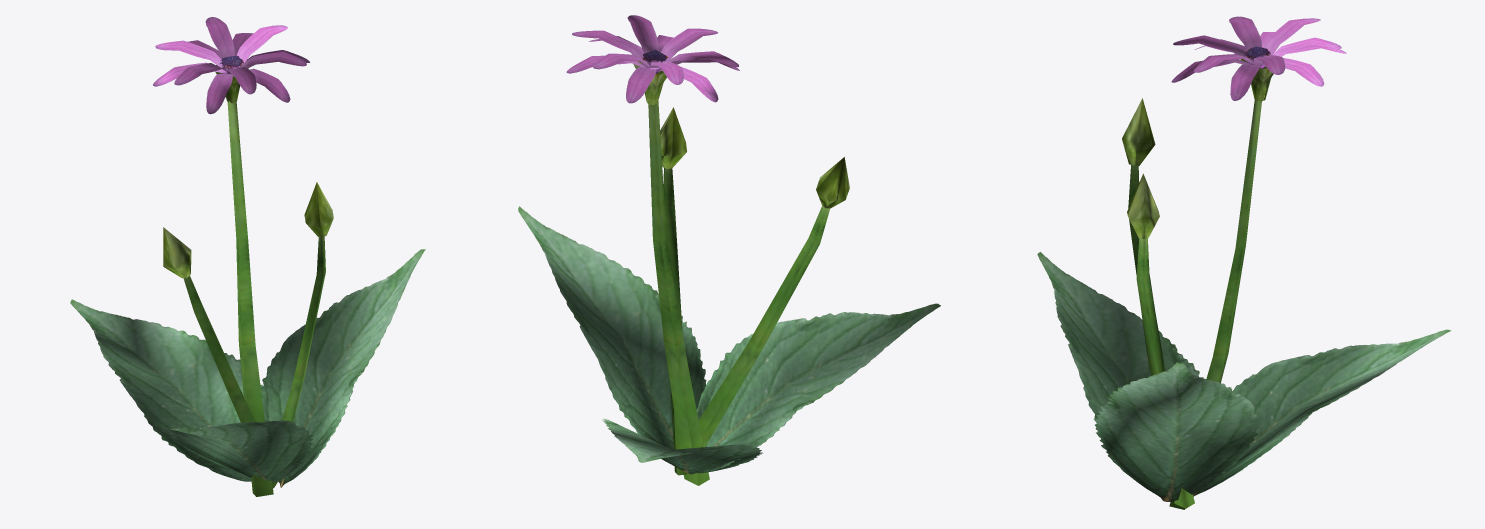
Rendered from pinkf2.obj.
3 renders of one model, left to right at view 1: azimuth 30°, elevation 25°; view 2: azimuth 150°, elevation 25°; view 3: azimuth 270°, elevation 25°, orthographic. The views are drawn at different scales.
Parts seen in each view (by area): view 1: pinkf02; view 2: pinkf02; view 3: pinkf02.
Boxes of the visible parts, left/top/right/bottom form: pinkf02: left=70, top=17, right=425, bottom=496; pinkf02: left=518, top=15, right=940, bottom=485; pinkf02: left=1037, top=16, right=1451, bottom=509.
Bounding box in the file's own units: 25.08 × 27.94 × 26.34.
Materials: 2 (2 with a texture image).
